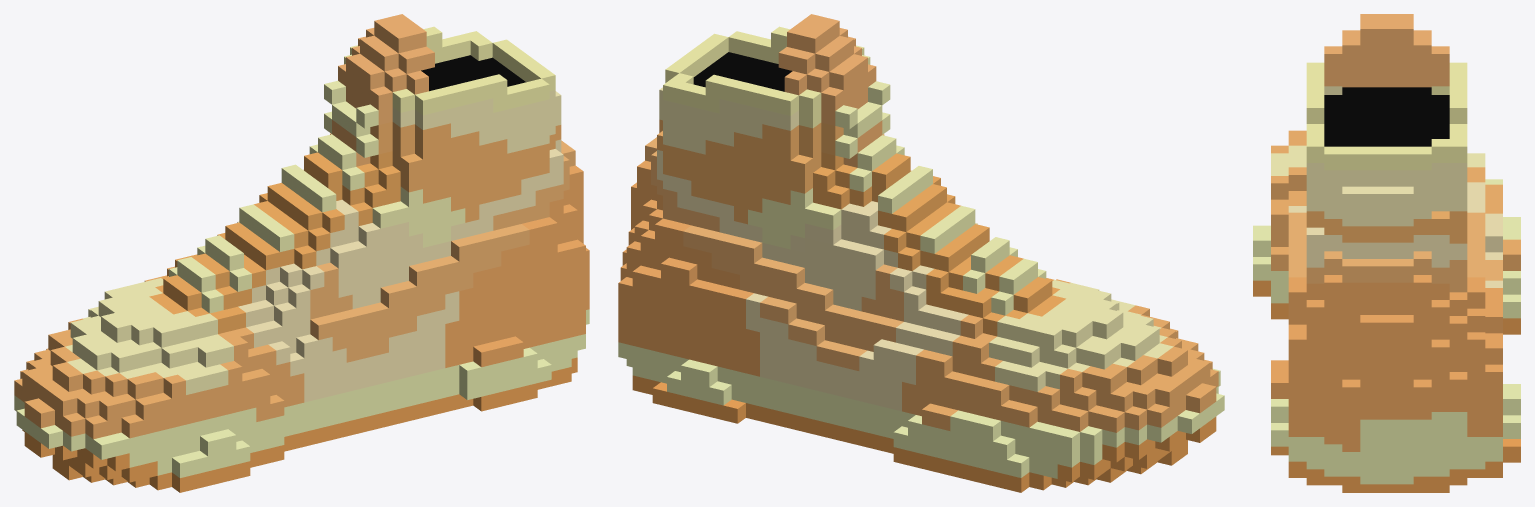
The model's file is Pale Vanilla.fbx.
3 views of the same model, side by side, from view 1: azimuth 30°, elevation 25°; view 2: azimuth 150°, elevation 25°; view 3: azimuth 270°, elevation 25° (orthographic). The views are drawn at different scales.
Parts seen in each view (by area): view 1: Untitled; view 2: Untitled; view 3: Untitled.
Part boxes in pixels (bbox=[...]): Untitled: bbox=[14, 14, 589, 492]; Untitled: bbox=[618, 14, 1224, 492]; Untitled: bbox=[1253, 14, 1520, 492].
Size of the model in its own units: 390 by 240 by 150.
